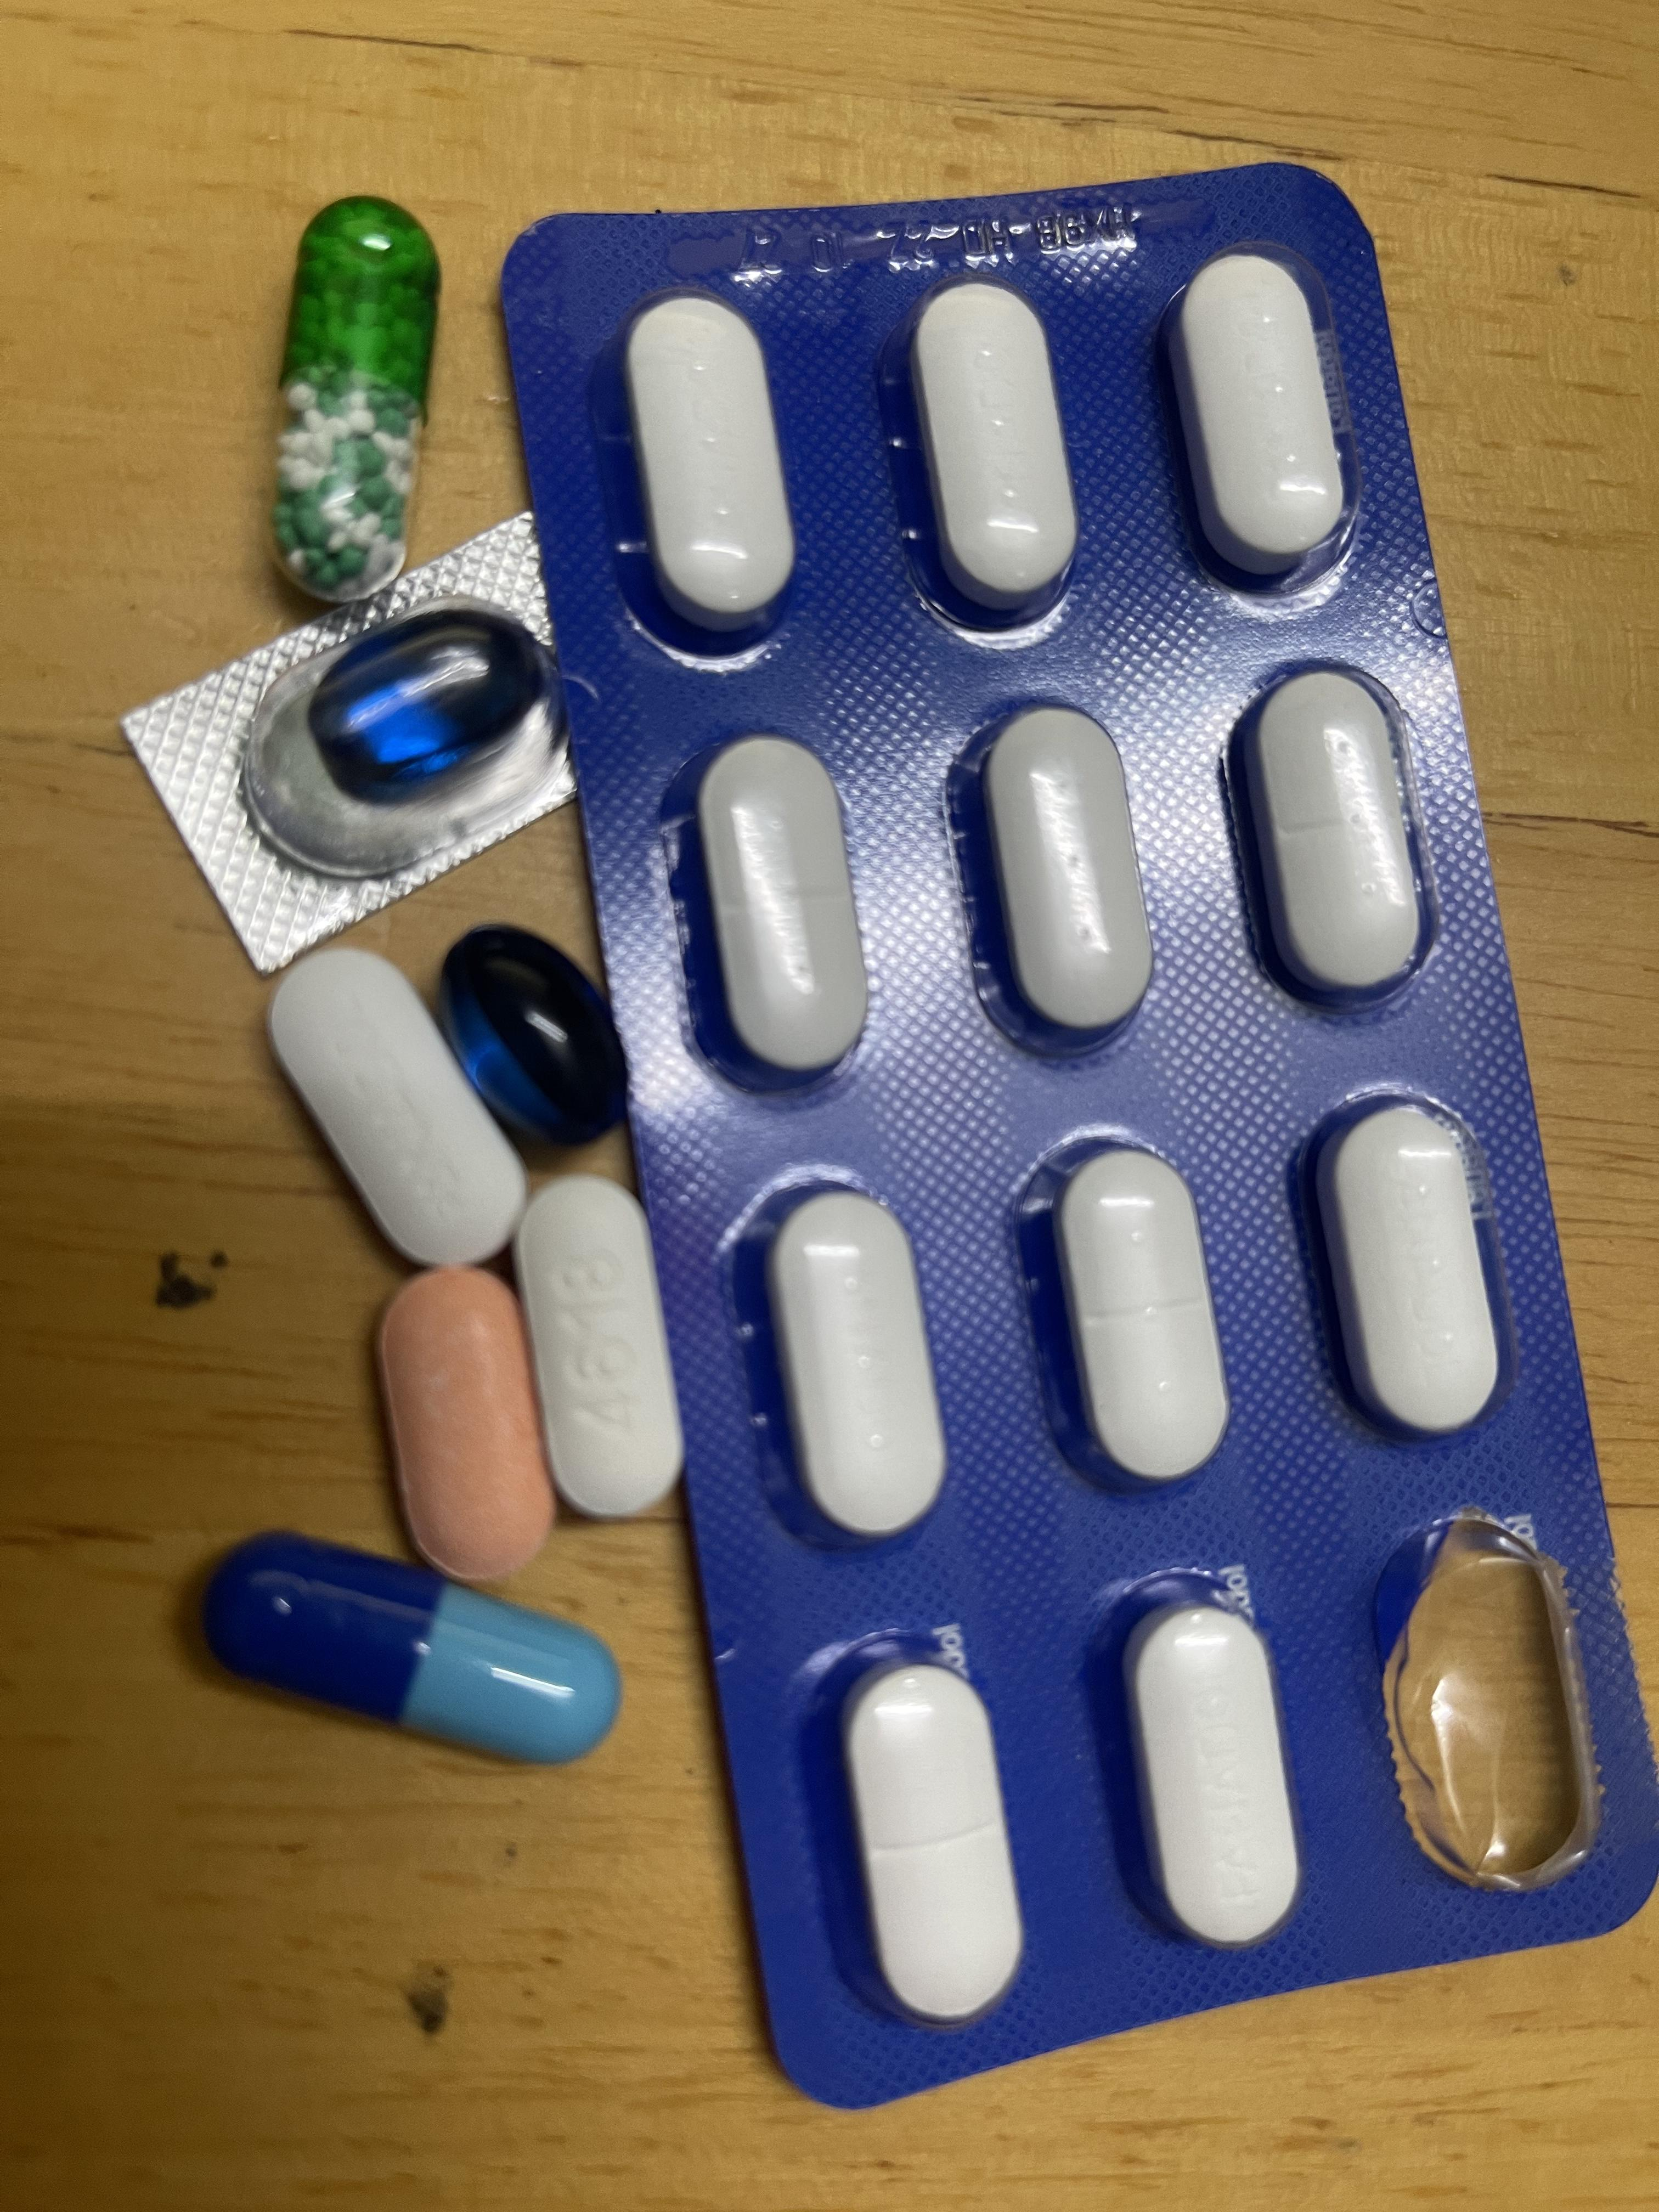Lincomyxin_500mg: (303, 613, 542, 801), (437, 927, 633, 1143)
Loratadine_10mg: (376, 1268, 556, 1583)
Paracetamol_350mg: (270, 949, 521, 1259), (838, 1649, 1026, 2027), (1119, 1588, 1304, 1956), (765, 1188, 951, 1540), (896, 273, 1079, 624), (620, 286, 800, 639), (1047, 1146, 1230, 1489), (690, 737, 870, 1083), (1317, 1106, 1502, 1439), (978, 704, 1154, 1047), (1168, 246, 1347, 582), (1251, 672, 1425, 1000)
Paracetamol_500mg: (521, 1198, 680, 1519)
Paracetamol_650mg: (272, 202, 436, 587)
pill: (202, 1534, 624, 1764)
